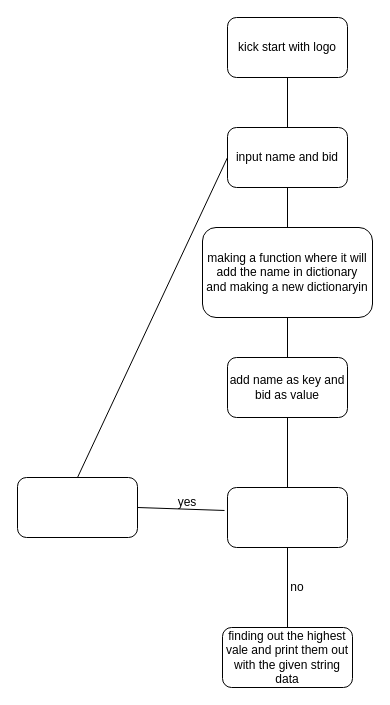
This 390x705 diagram has some shape labels left out. Each missing label, with the centre of its shape:
"asking aa user that there is any other bider" goes at point 287,517.
"clear the screen" goes at point 77,507.
